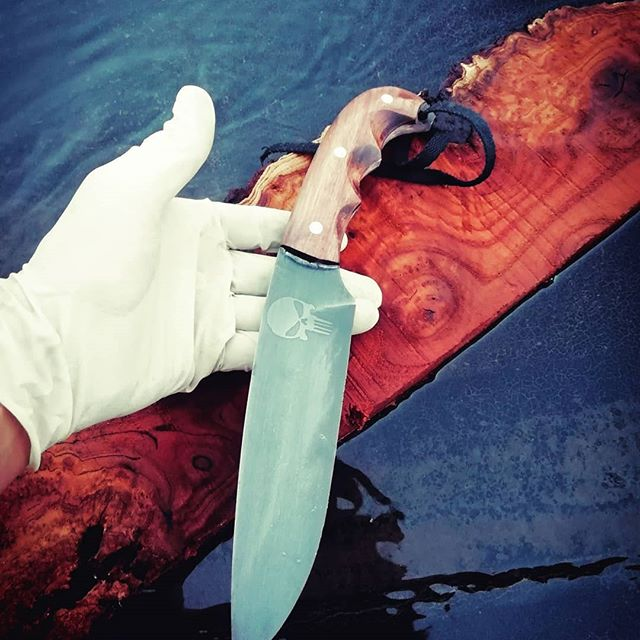knife: (229, 86, 426, 639)
